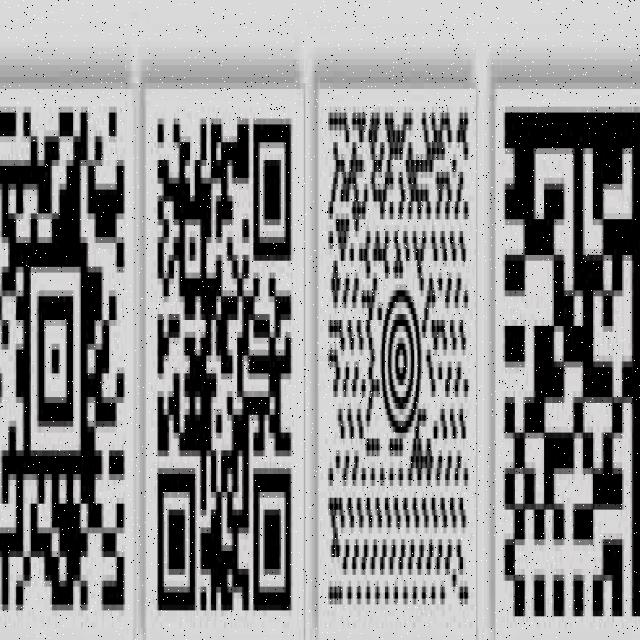datamatrix: (499, 95, 640, 640)
